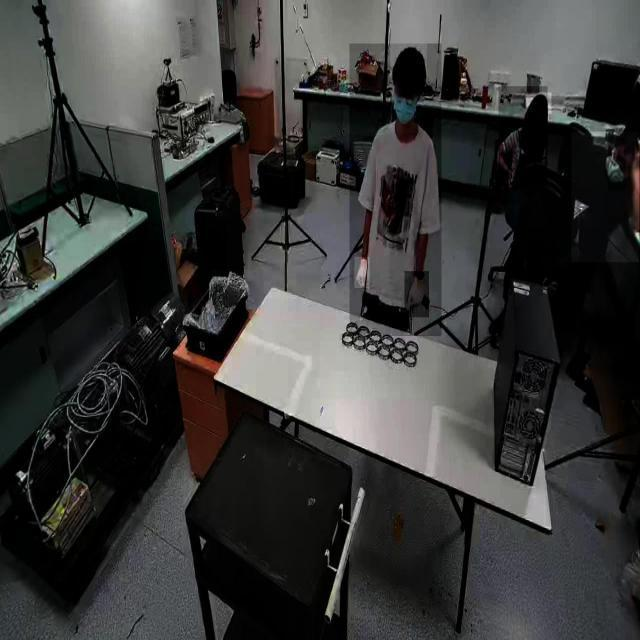gloves: (404, 271, 430, 318), (354, 257, 370, 289)
